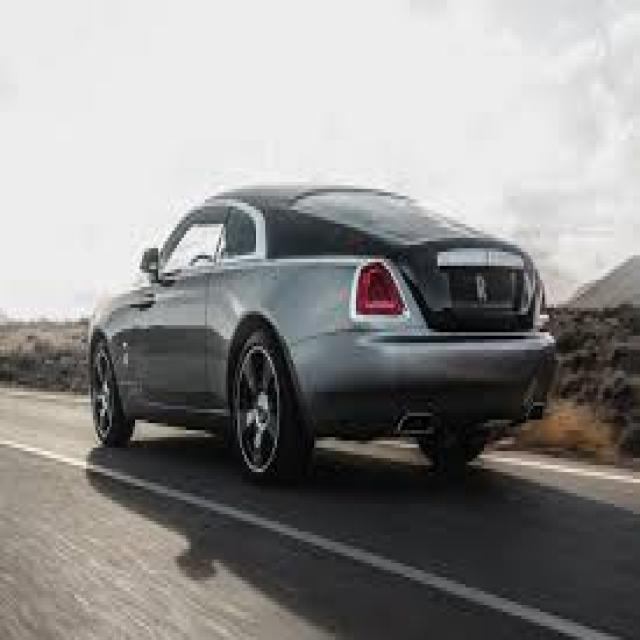car: (78, 177, 573, 498)
